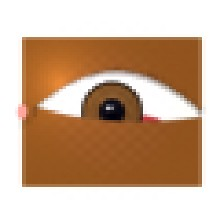hemorrhage_spot: (94, 93, 178, 159)
